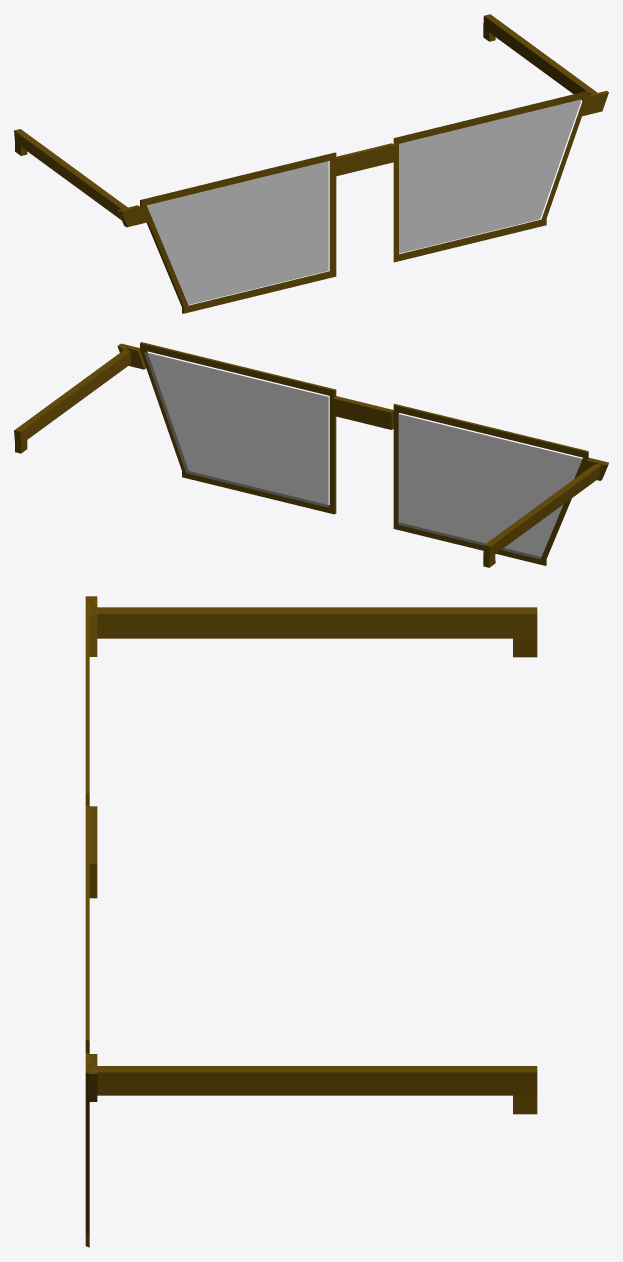
The model's file is glasses.obj.
3 views of the same model, one above another, from view 1: azimuth 30°, elevation 25°; view 2: azimuth 150°, elevation 25°; view 3: azimuth 270°, elevation 25° (orthographic). The views are drawn at different scales.
Visible parts, largest first — view 1: Plane.001, Plane.002, Plane; view 2: Plane.001, Plane.002, Plane; view 3: Plane.
Part boxes in pixels (x1,y1,x2,y2): Plane.001: (399, 99, 581, 253); Plane.002: (147, 161, 328, 304); Plane: (14, 14, 608, 313); Plane.001: (144, 352, 328, 507); Plane.002: (398, 414, 582, 559); Plane: (14, 342, 608, 567); Plane: (85, 596, 537, 1247).
Bounding box in the file's own units: 8.27 × 2.01 × 3.31.
